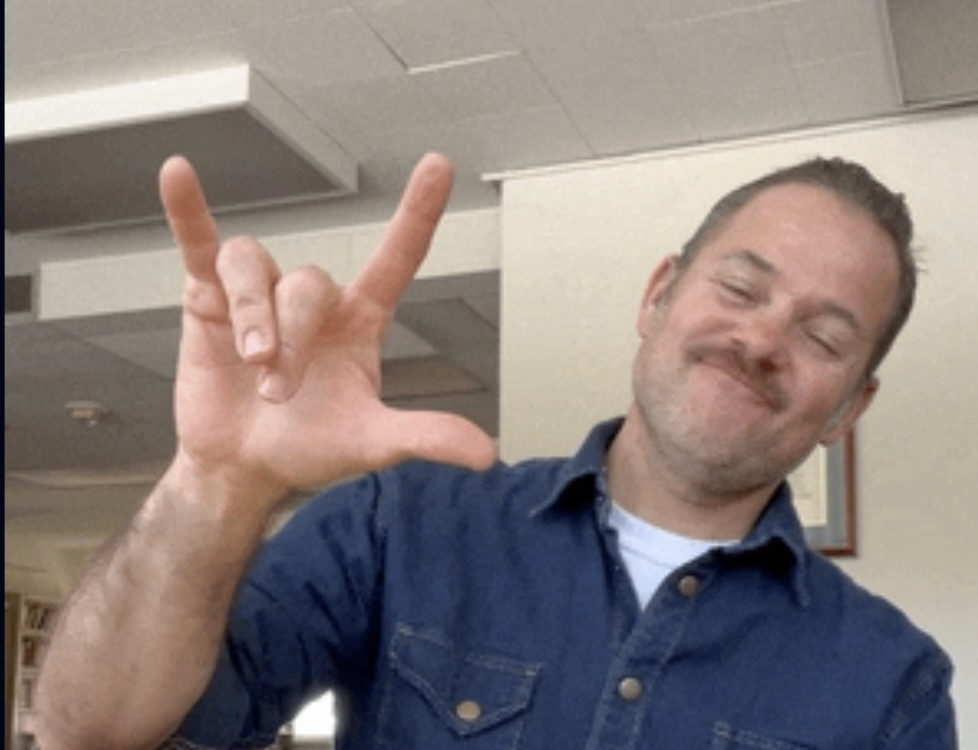loveyou: (142, 134, 543, 493)
